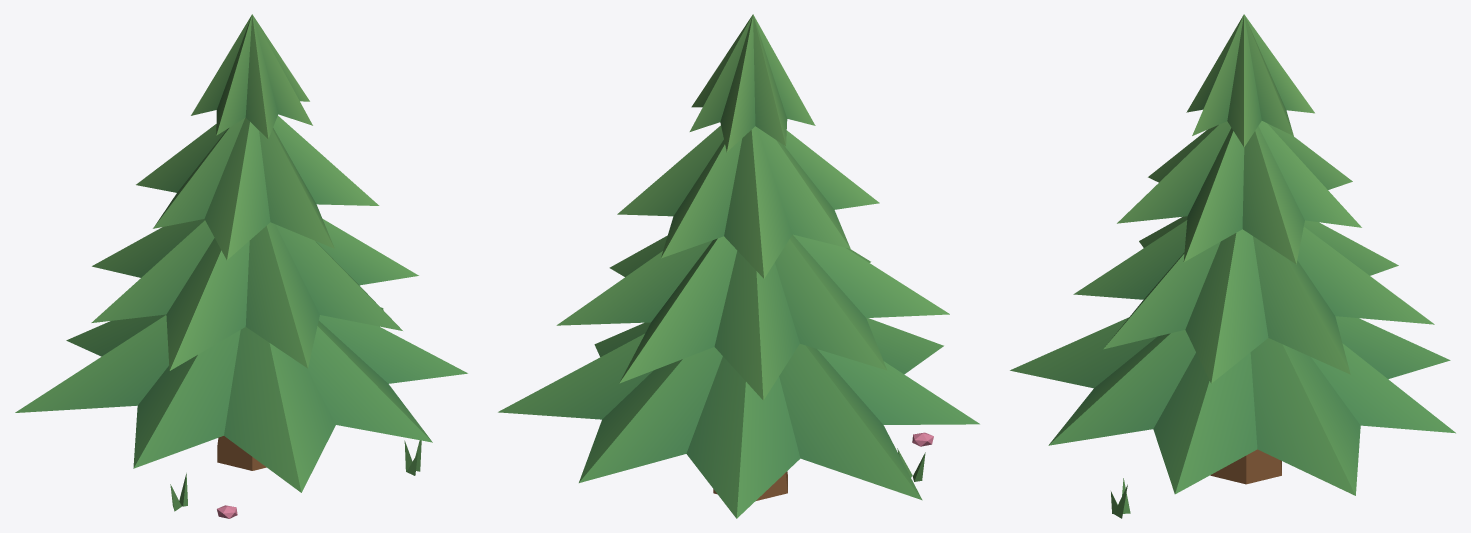
Rendered from ranch_border_pine_broad.fbx.
The picture shows the model from 3 angles, left to right: view 1: azimuth 30°, elevation 25°; view 2: azimuth 150°, elevation 25°; view 3: azimuth 270°, elevation 25°; orthographic projection. The views are drawn at different scales.
Parts seen in each view (by area): view 1: ranch_border_pine_broad; view 2: ranch_border_pine_broad; view 3: ranch_border_pine_broad.
Part boxes in pixels (left/top/right/bottom): ranch_border_pine_broad: left=15, top=14, right=467, bottom=518; ranch_border_pine_broad: left=498, top=14, right=979, bottom=518; ranch_border_pine_broad: left=1010, top=14, right=1455, bottom=518.
Bounding box in the file's own units: 12.35 × 13.54 × 12.13.
